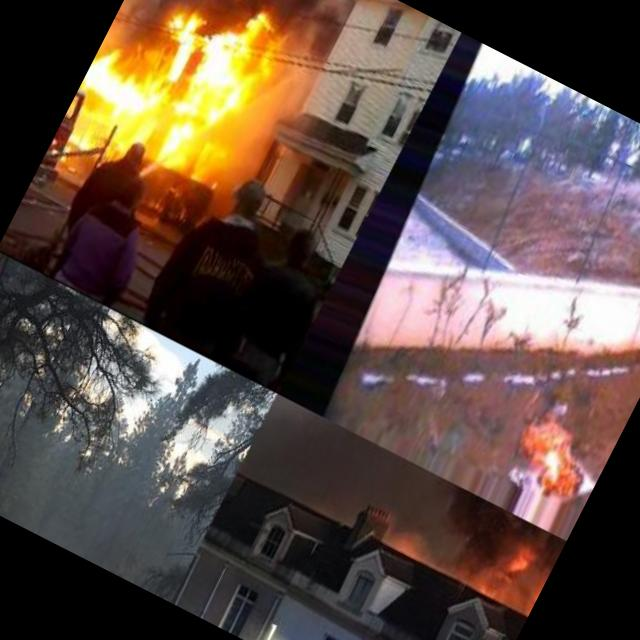fire: (77, 0, 280, 179), (501, 398, 606, 502), (482, 536, 535, 602), (86, 44, 112, 80), (520, 584, 543, 618)
smoke: (0, 370, 169, 577), (230, 21, 336, 152), (212, 0, 365, 55)
